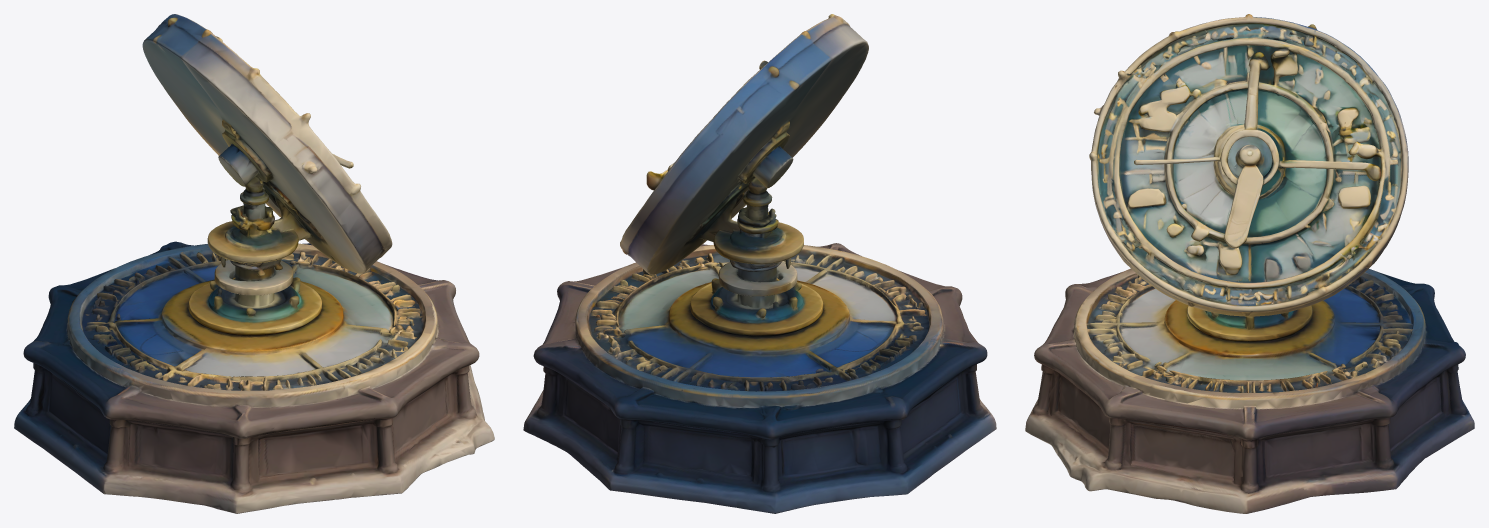
The model's file is prop-sundial-large.glb.
3 renders of one model, left to right at view 1: azimuth 30°, elevation 25°; view 2: azimuth 150°, elevation 25°; view 3: azimuth 270°, elevation 25°, orthographic. The views are drawn at different scales.
Parts seen in each view (by area): view 1: tripo_node_9cd3adb2-8249-4aee-bda7-91c360eb81fa; view 2: tripo_node_9cd3adb2-8249-4aee-bda7-91c360eb81fa; view 3: tripo_node_9cd3adb2-8249-4aee-bda7-91c360eb81fa.
Part boxes in pixels (box(x1,y1,x2,y2)): tripo_node_9cd3adb2-8249-4aee-bda7-91c360eb81fa: box(14, 14, 494, 513); tripo_node_9cd3adb2-8249-4aee-bda7-91c360eb81fa: box(523, 14, 996, 513); tripo_node_9cd3adb2-8249-4aee-bda7-91c360eb81fa: box(1025, 14, 1474, 513).
Size of the model in its own units: 2.12 by 2 by 2.13.
Materials: 1 (1 with a texture image).
